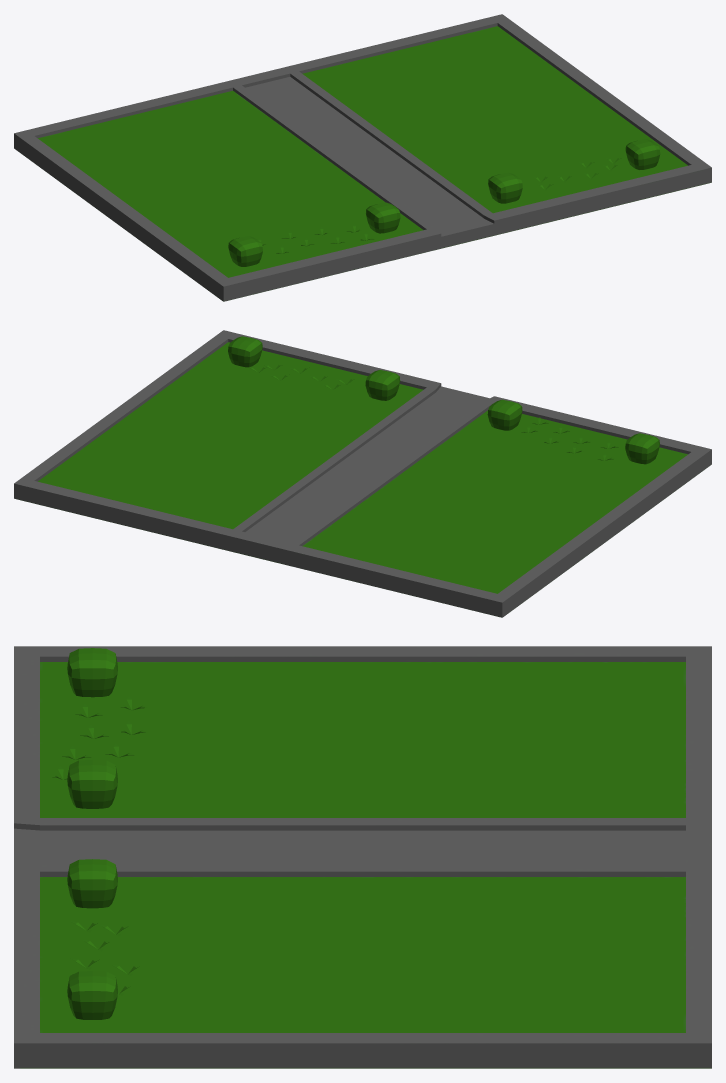
The model's file is tera_grass.fbx.
The picture shows the model from 3 angles, top to bottom: view 1: azimuth 30°, elevation 25°; view 2: azimuth 150°, elevation 25°; view 3: azimuth 270°, elevation 25°; orthographic projection. The views are drawn at different scales.
Visible parts, largest first — view 1: Cube, Cube.001, Cube.002, Cube.004, Cube.003; view 2: Cube, Cube.003, Cube.002, Cube.001, Cube.004; view 3: Cube, Cube.001, Cube.004, Cube.003, Cube.002.
Part boxes in pixels (x1,y1,x2,y2): Cube: [14, 14, 711, 301]; Cube.001: [488, 172, 522, 203]; Cube.002: [366, 202, 400, 233]; Cube.004: [228, 236, 262, 266]; Cube.003: [625, 139, 660, 169]; Cube: [14, 330, 711, 617]; Cube.003: [228, 336, 262, 367]; Cube.002: [487, 399, 522, 430]; Cube.001: [365, 370, 400, 400]; Cube.004: [625, 433, 659, 464]; Cube: [14, 646, 711, 1068]; Cube.001: [67, 859, 117, 908]; Cube.004: [67, 648, 117, 697]; Cube.003: [67, 971, 117, 1019]; Cube.002: [67, 759, 117, 808].
Size of the model in its own units: 3196 by 208 by 2376.
